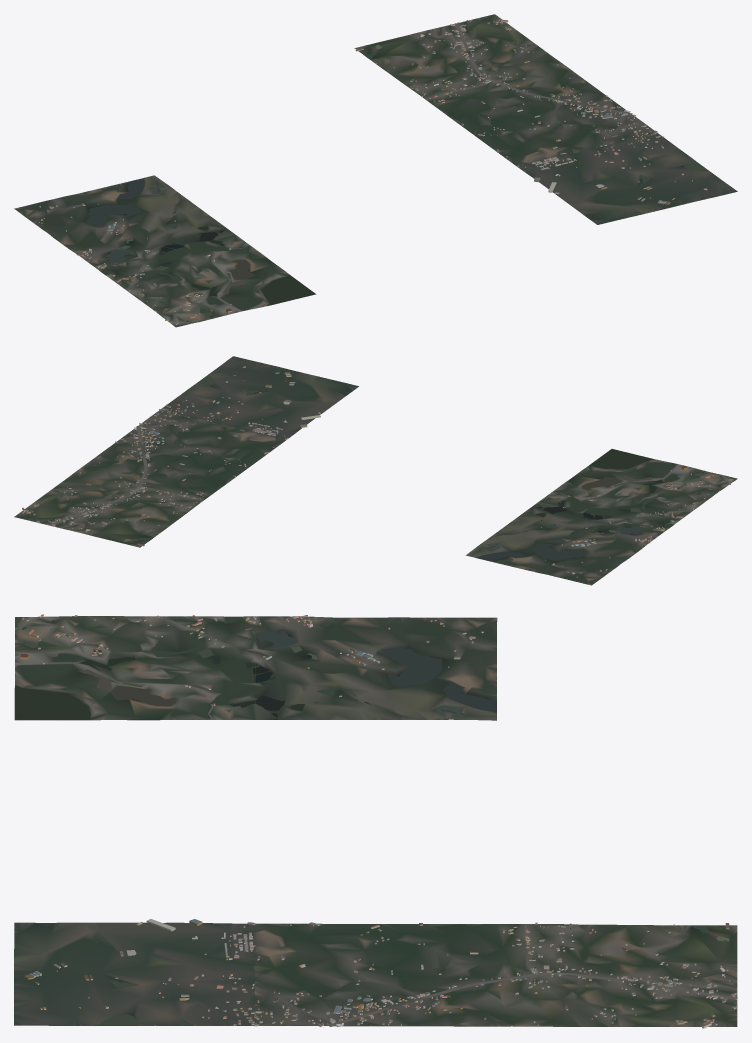
The picture shows the model from 3 angles, top to bottom: view 1: azimuth 30°, elevation 25°; view 2: azimuth 150°, elevation 25°; view 3: azimuth 270°, elevation 25°; orthographic projection. The views are drawn at different scales.
Parts seen in each view (by area): view 1: ground, water, buildings, roads; view 2: ground, water, buildings, roads; view 3: ground, water, buildings, roads.
Part boxes in pixels (left/top/right/bottom): ground: left=14, top=14, right=737, bottom=326; water: left=77, top=44, right=710, bottom=327; buildings: left=38, top=19, right=707, bottom=324; roads: left=211, top=23, right=632, bottom=308; ground: left=14, top=356, right=735, bottom=585; water: left=122, top=374, right=737, bottom=561; buildings: left=22, top=366, right=733, bottom=577; roads: left=48, top=426, right=674, bottom=525; ground: left=14, top=616, right=737, bottom=1026; water: left=15, top=616, right=729, bottom=1025; buildings: left=20, top=614, right=737, bottom=1028; roads: left=28, top=662, right=737, bottom=1026.
Size of the model in its own units: 5641 by 39.94 by 4210.
